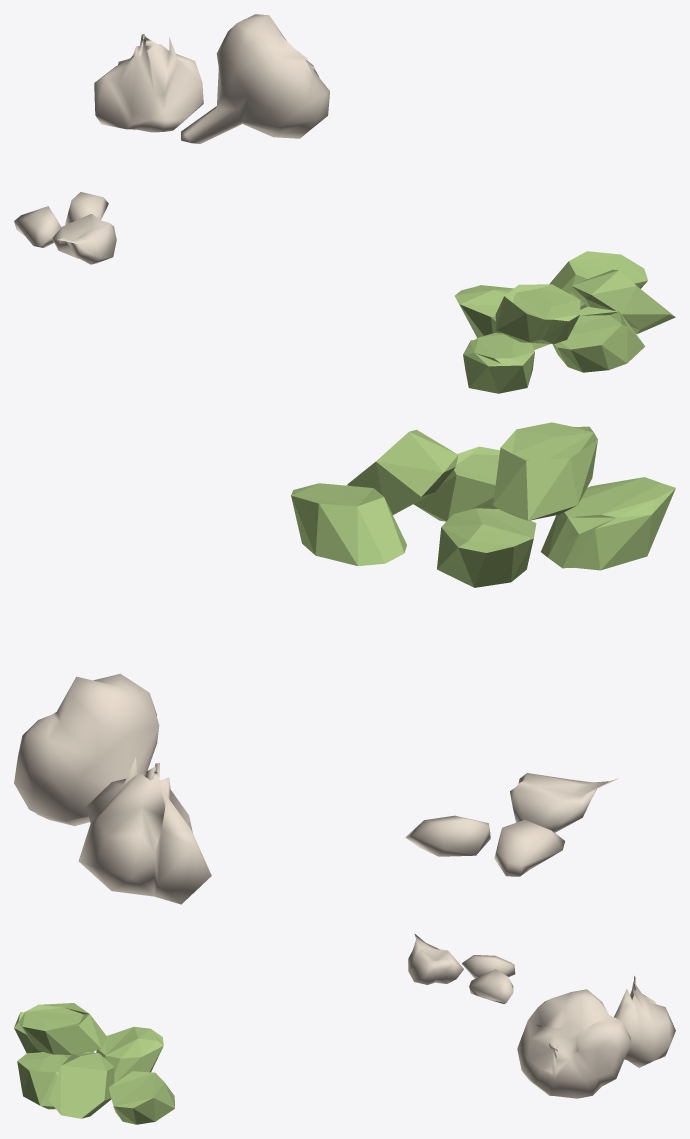
The model's file is gar.fbx.
3 views of the same model, one above another, from view 1: azimuth 30°, elevation 25°; view 2: azimuth 150°, elevation 25°; view 3: azimuth 270°, elevation 25° (orthographic). The views are drawn at different scales.
Parts seen in each view (by area): view 1: AM213_018_Garlic, AM213_018_Leek; view 2: AM213_018_Leek, AM213_018_Garlic; view 3: AM213_018_Garlic, AM213_018_Leek.
Boxes of the visible parts, box(x1,y1,x2,y2) form: AM213_018_Garlic: box(14, 14, 329, 264); AM213_018_Leek: box(455, 251, 675, 393); AM213_018_Leek: box(291, 422, 675, 587); AM213_018_Garlic: box(14, 673, 618, 904); AM213_018_Garlic: box(408, 933, 675, 1098); AM213_018_Leek: box(14, 1003, 174, 1124).
Bounding box in the file's own units: 16.57 × 4.28 × 27.35.
